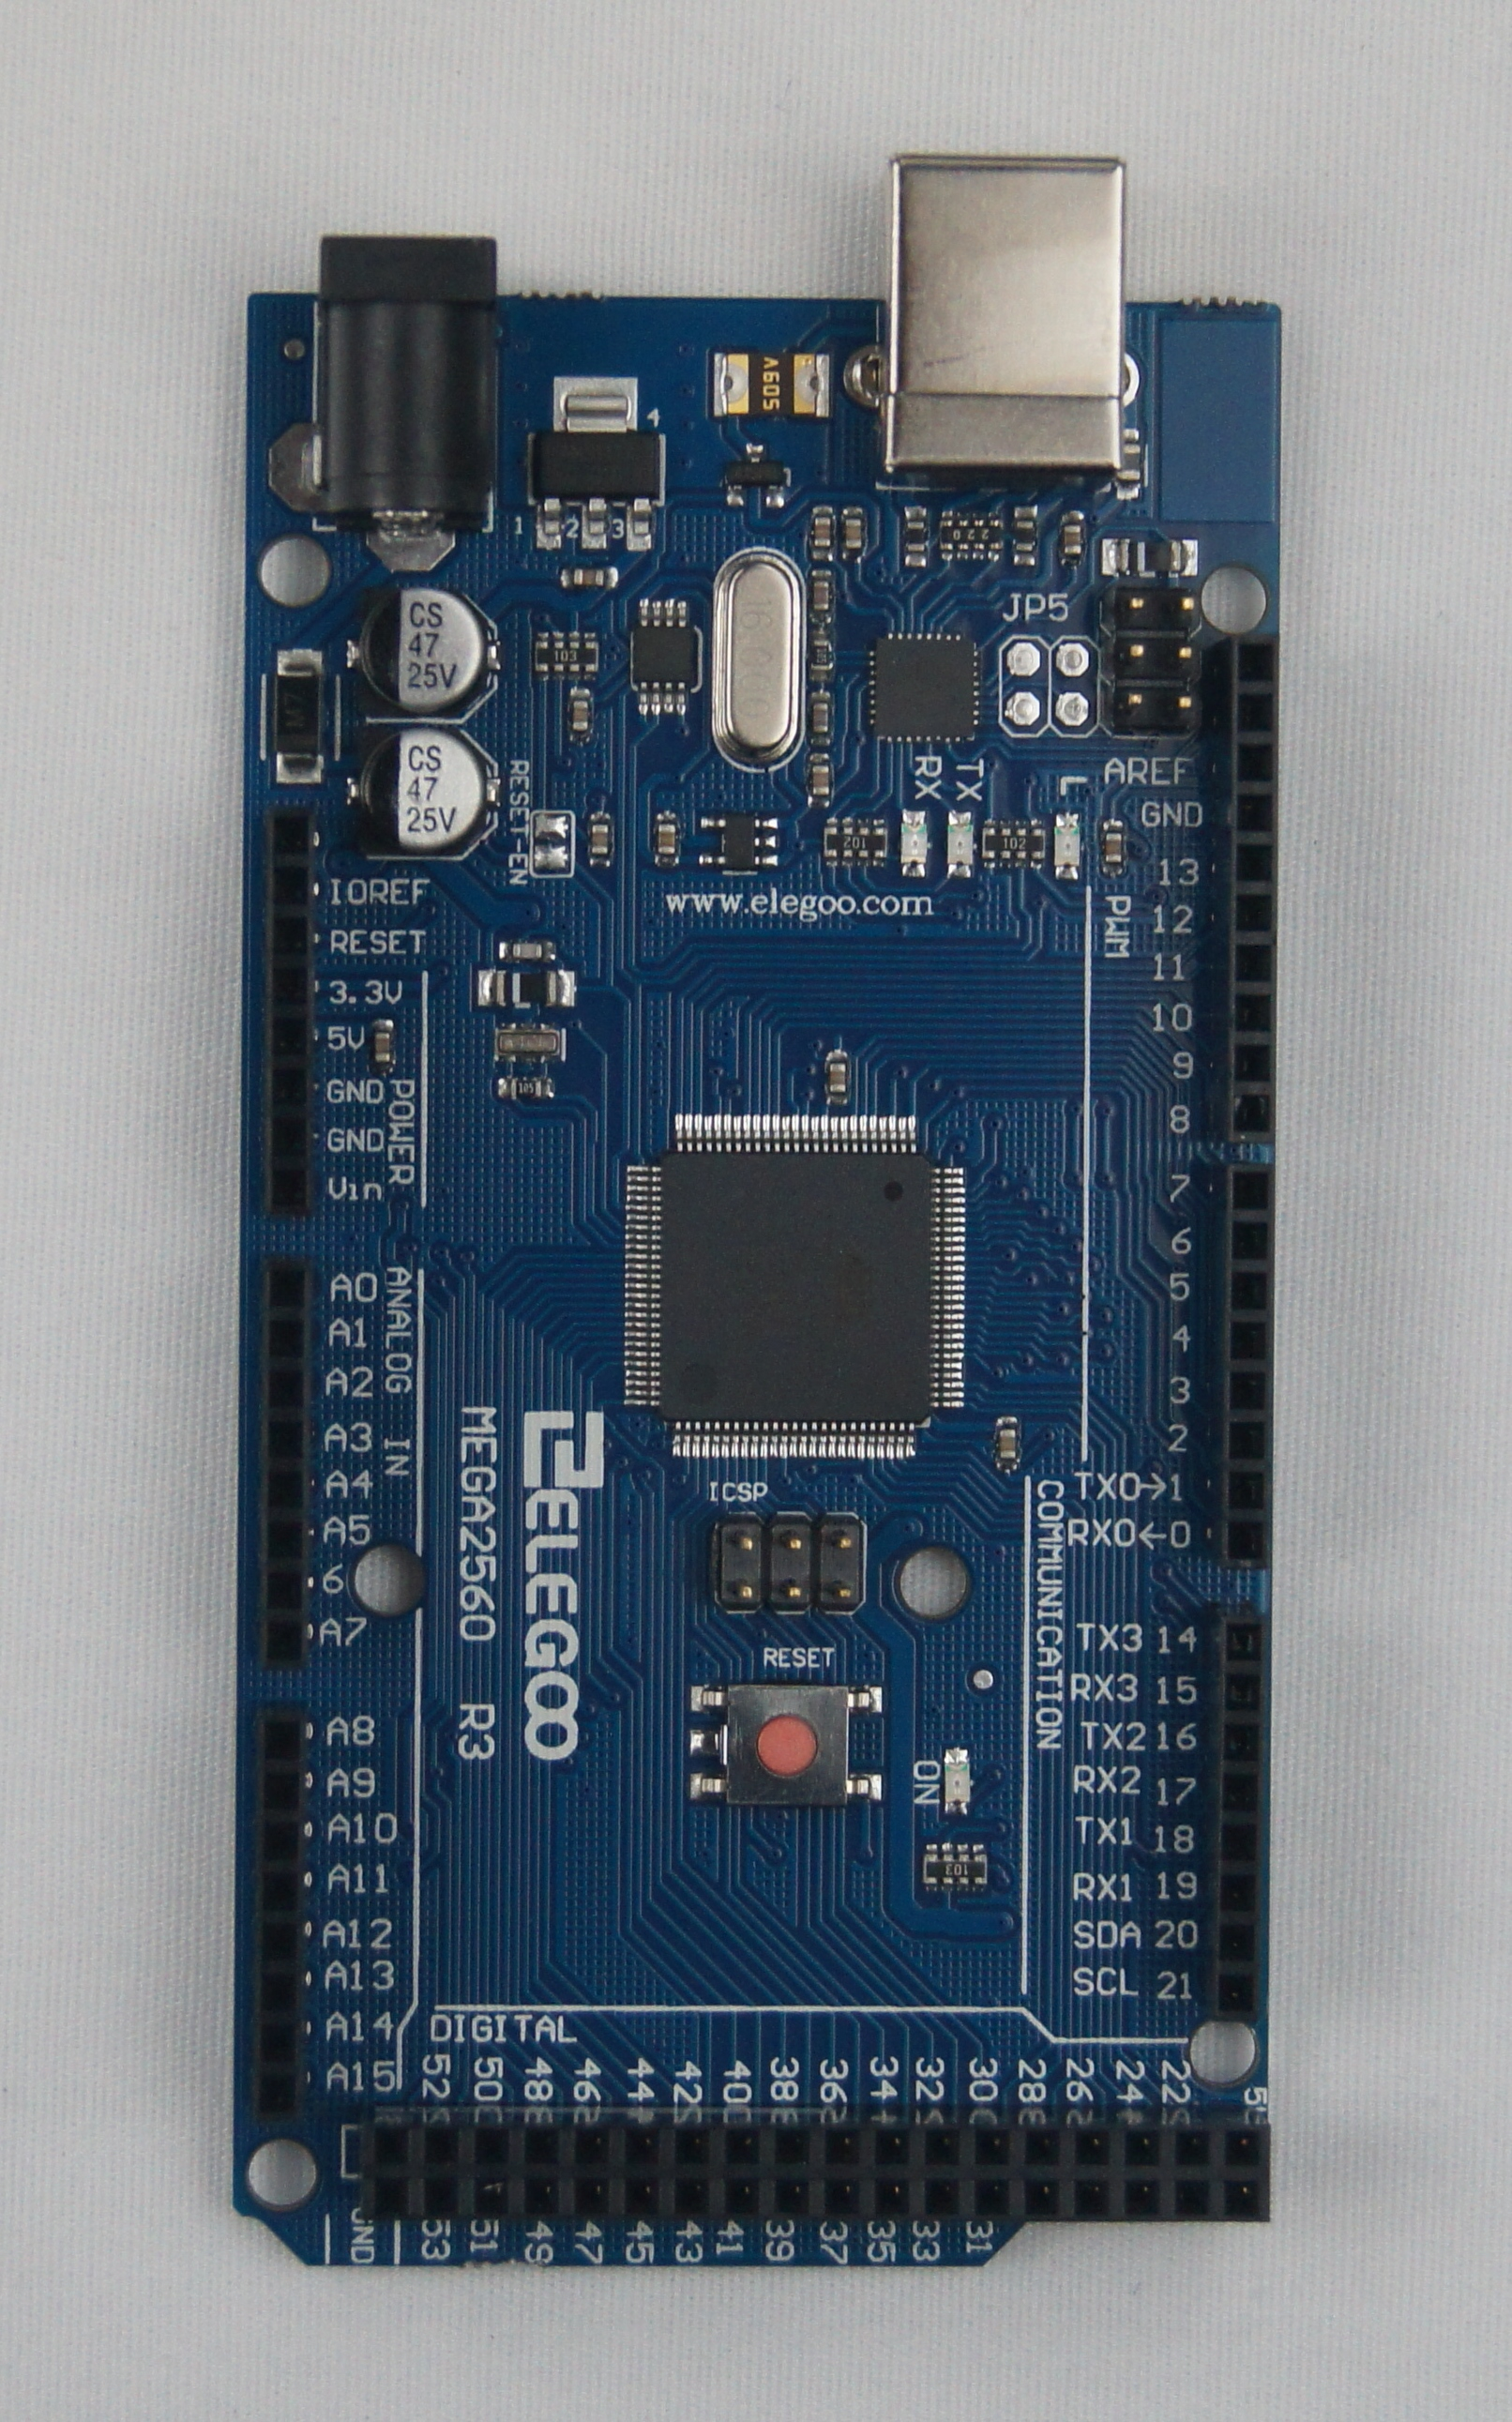connector: (355, 2116, 1272, 2222), (1221, 632, 1282, 1142), (256, 1254, 314, 1670), (1219, 1161, 1275, 1572), (265, 808, 317, 1222), (254, 1703, 307, 2116), (1214, 1611, 1266, 2022), (712, 1510, 862, 1616), (1106, 585, 1198, 738), (1050, 639, 1094, 733), (1003, 637, 1043, 731)
